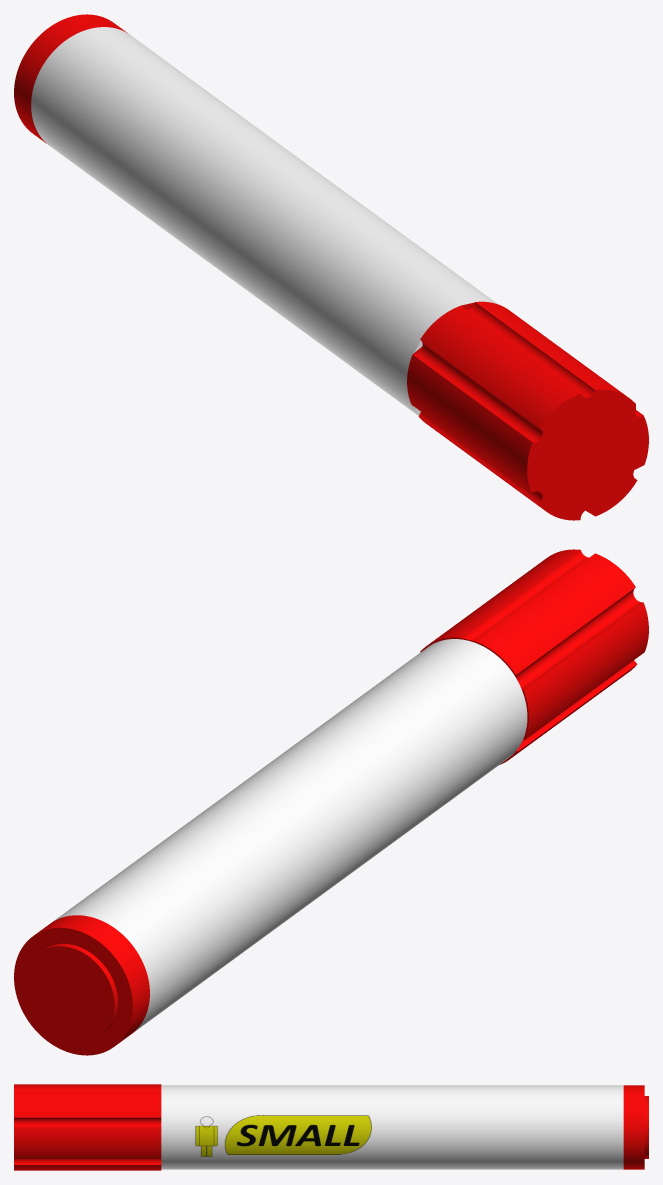
File: small2.fbx
The picture shows the model from 3 angles, top to bottom: view 1: azimuth 30°, elevation 25°; view 2: azimuth 150°, elevation 25°; view 3: azimuth 270°, elevation 25°; orthographic projection. The views are drawn at different scales.
Visible parts, largest first — view 1: Cylinder, Cylinder.001, Cylinder.002; view 2: Cylinder, Cylinder.001, Cylinder.002, Cylinder.003; view 3: Cylinder, Cylinder.001, Cylinder.002, Cylinder.003.
Part boxes in pixels (left/top/right/bottom): Cylinder: left=31, top=27, right=497, bottom=415; Cylinder.001: left=407, top=301, right=648, bottom=520; Cylinder.002: left=14, top=14, right=127, bottom=143; Cylinder: left=53, top=639, right=527, bottom=1031; Cylinder.001: left=420, top=549, right=648, bottom=764; Cylinder.002: left=14, top=915, right=149, bottom=1055; Cylinder.003: left=25, top=943, right=117, bottom=1041; Cylinder: left=161, top=1085, right=623, bottom=1169; Cylinder.001: left=14, top=1084, right=161, bottom=1170; Cylinder.002: left=623, top=1085, right=644, bottom=1169; Cylinder.003: left=644, top=1096, right=648, bottom=1158.
Size of the model in its own units: 2.05 by 2.03 by 15.1.
Materials: 2 (1 with a texture image).
